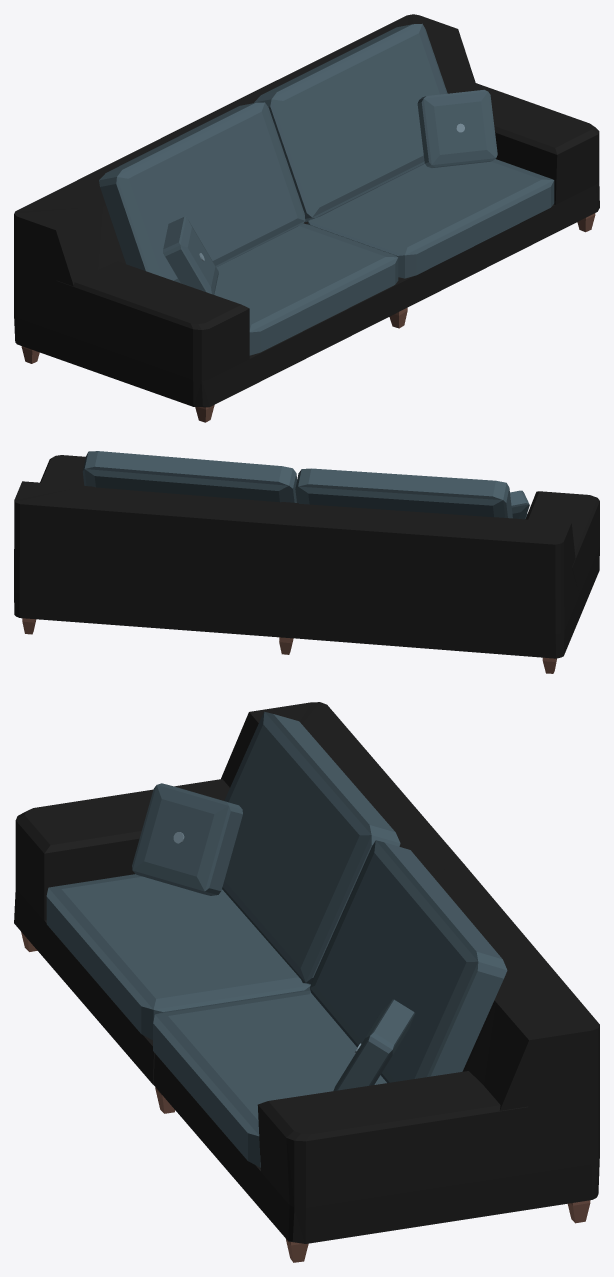
File: couch.dae
3 renders of one model, top to bottom at view 1: azimuth 30°, elevation 25°; view 2: azimuth 150°, elevation 25°; view 3: azimuth 270°, elevation 25°, orthographic. The views are drawn at different scales.
Visible parts, largest first — view 1: couchModel; view 2: couchModel; view 3: couchModel.
Boxes of the visible parts, x1,y1,x2,y2 form: couchModel: [14, 14, 599, 422]; couchModel: [14, 451, 599, 673]; couchModel: [14, 702, 599, 1262].
Size of the model in its own units: 1.25 by 0.3846 by 0.8333.
